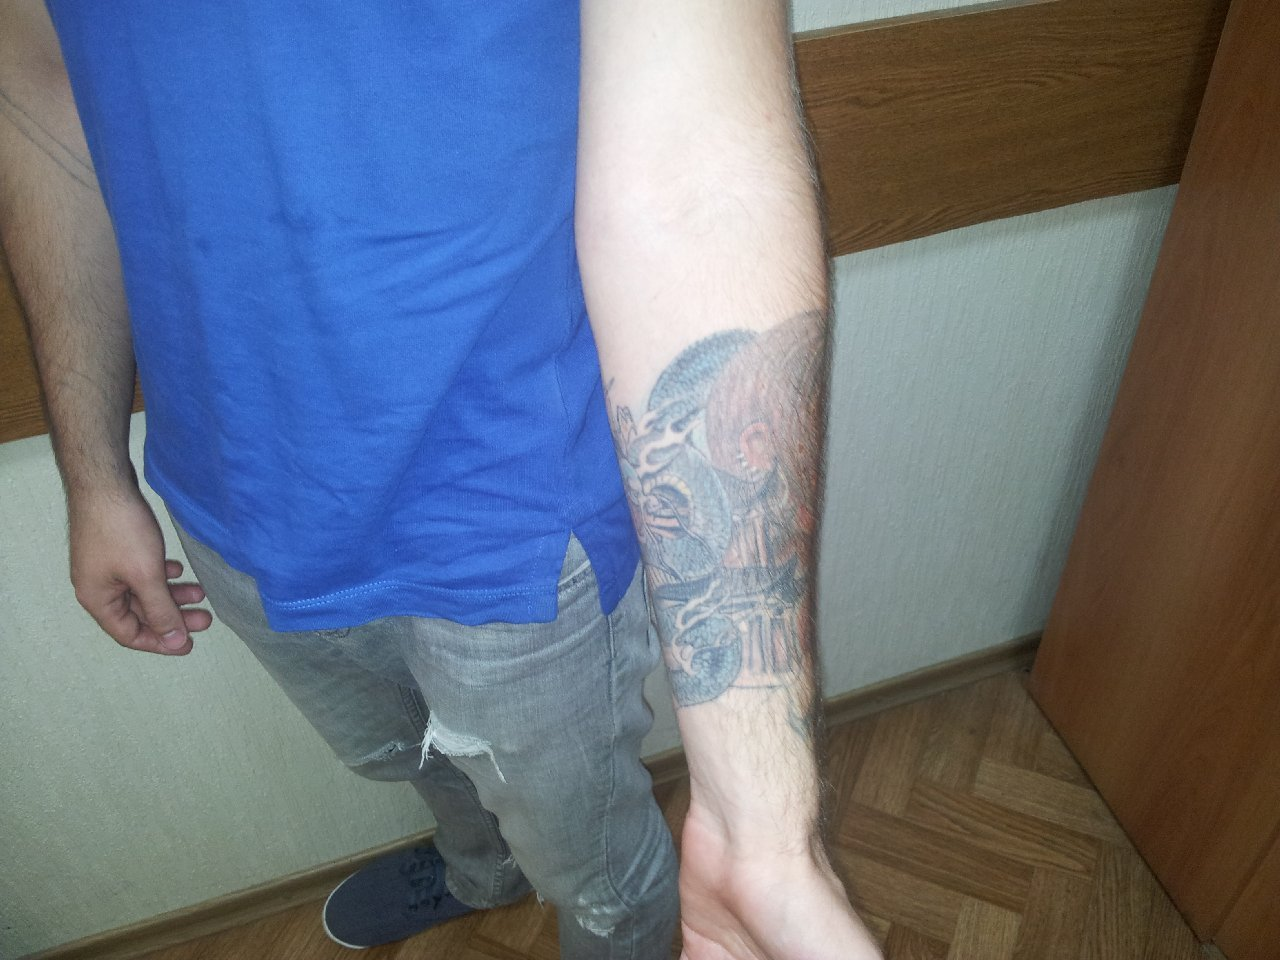tatu7_zmeya: (592, 321, 866, 837)
